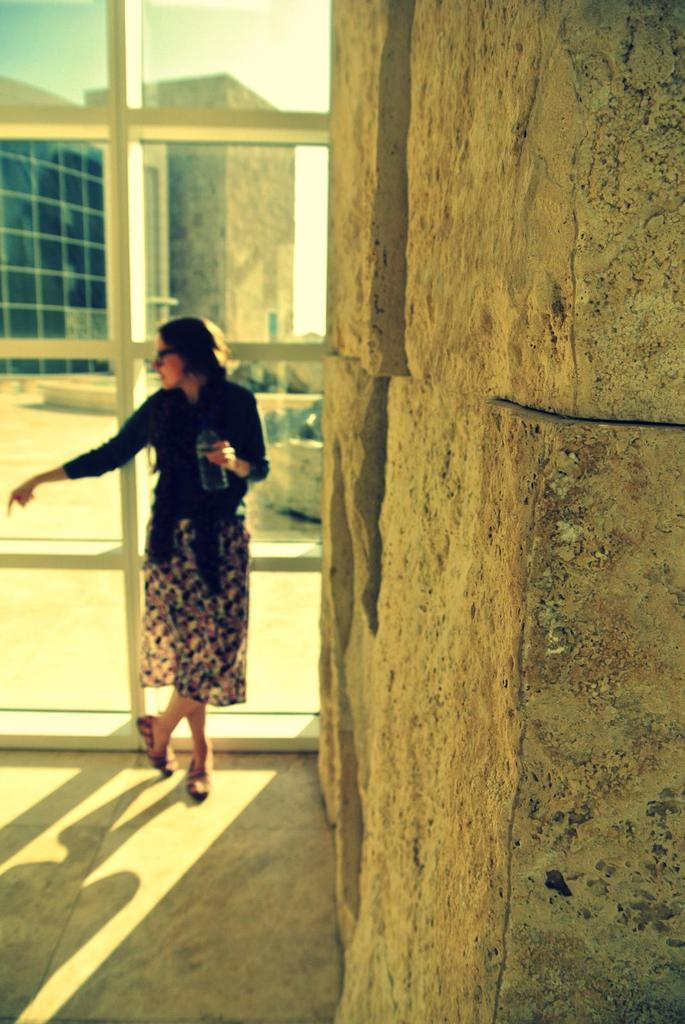Human_hand: (201, 436, 235, 474), (0, 481, 34, 502)
